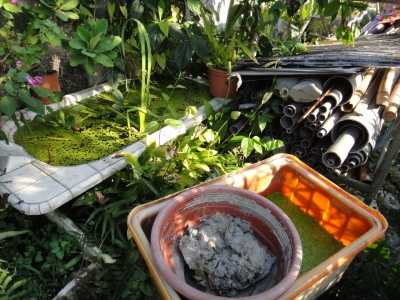bowl: (153, 185, 304, 299)
box: (126, 148, 389, 300)
tub: (1, 63, 241, 215)
